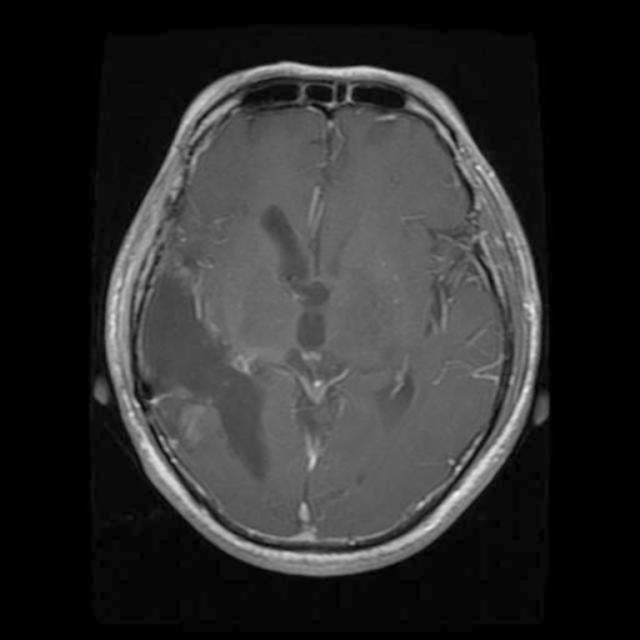pituitary tumor: (151, 272, 269, 456)
